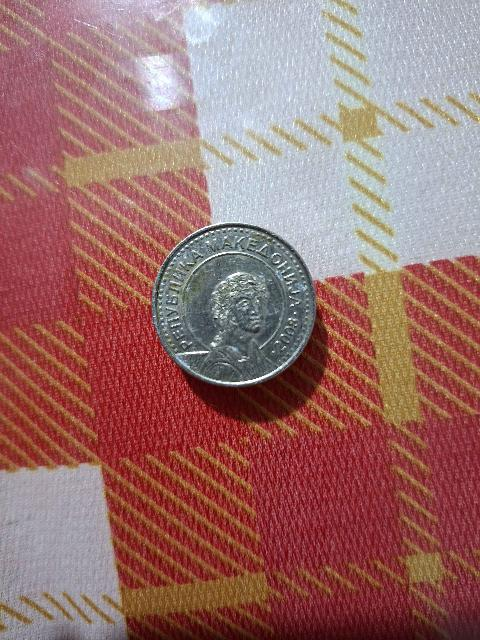50_coin: (152, 224, 315, 386)
